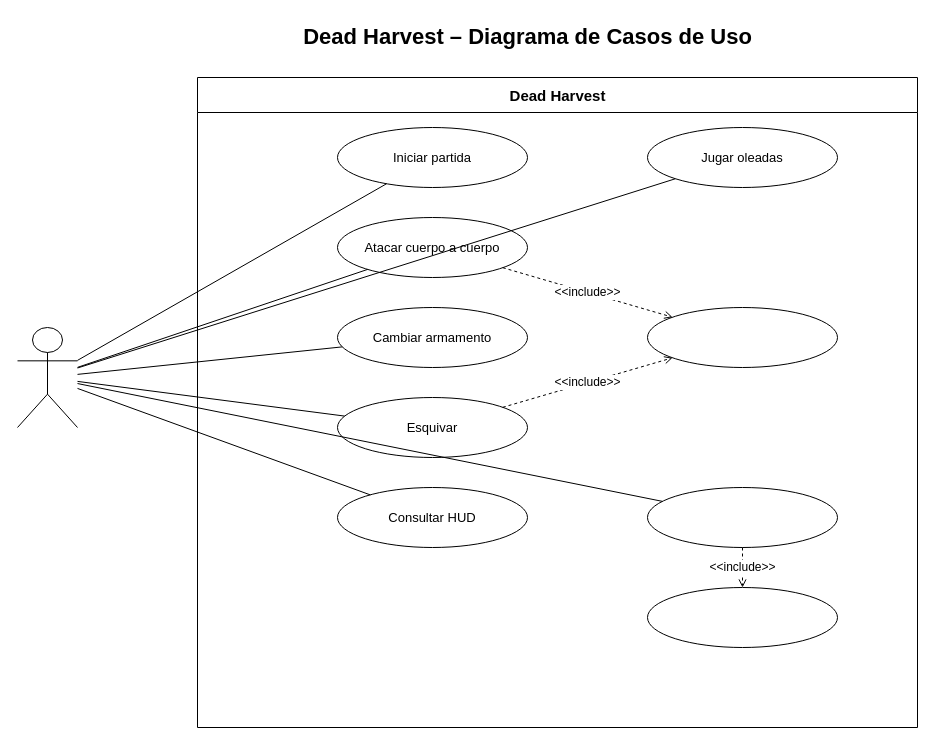
This 935x745 diagram has some shape labels left out. Each missing label, with the centre of its shape:
"Finalizar partida" belongs at (742,517).
"Gestionar estamina" belongs at (742,337).
"Jugador" belongs at (47,377).
"Mostrar resultados" belongs at (742,617).
